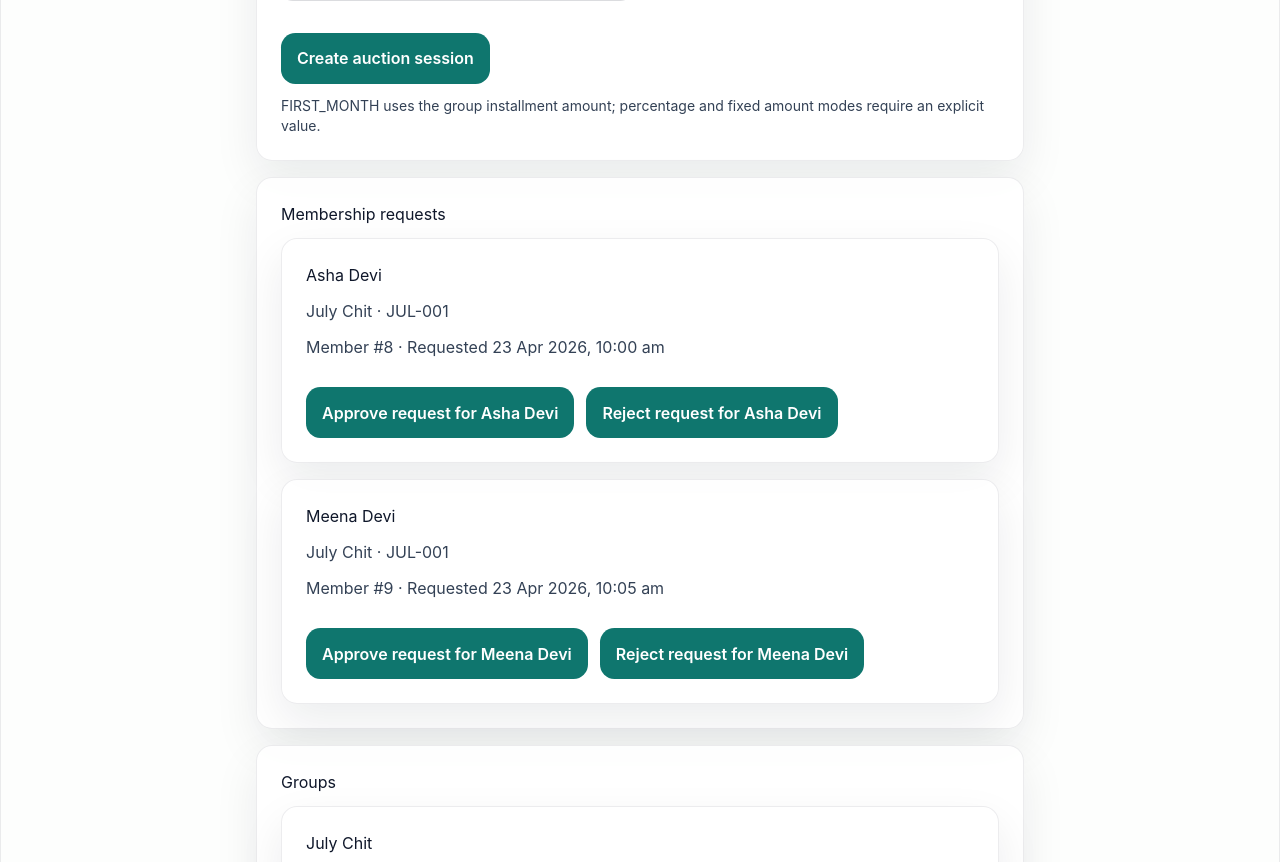
it: lets an owner approve and reject pending membership requests
(page scrolled)
Expected: the heading "Membership requests" is shown, [281, 204, 446, 224]
Expected: the heading "Asha Devi" is shown, [306, 265, 382, 285]
Click the button "Approve request for Asha Devi".
click(440, 413)  # box [306, 387, 574, 438]
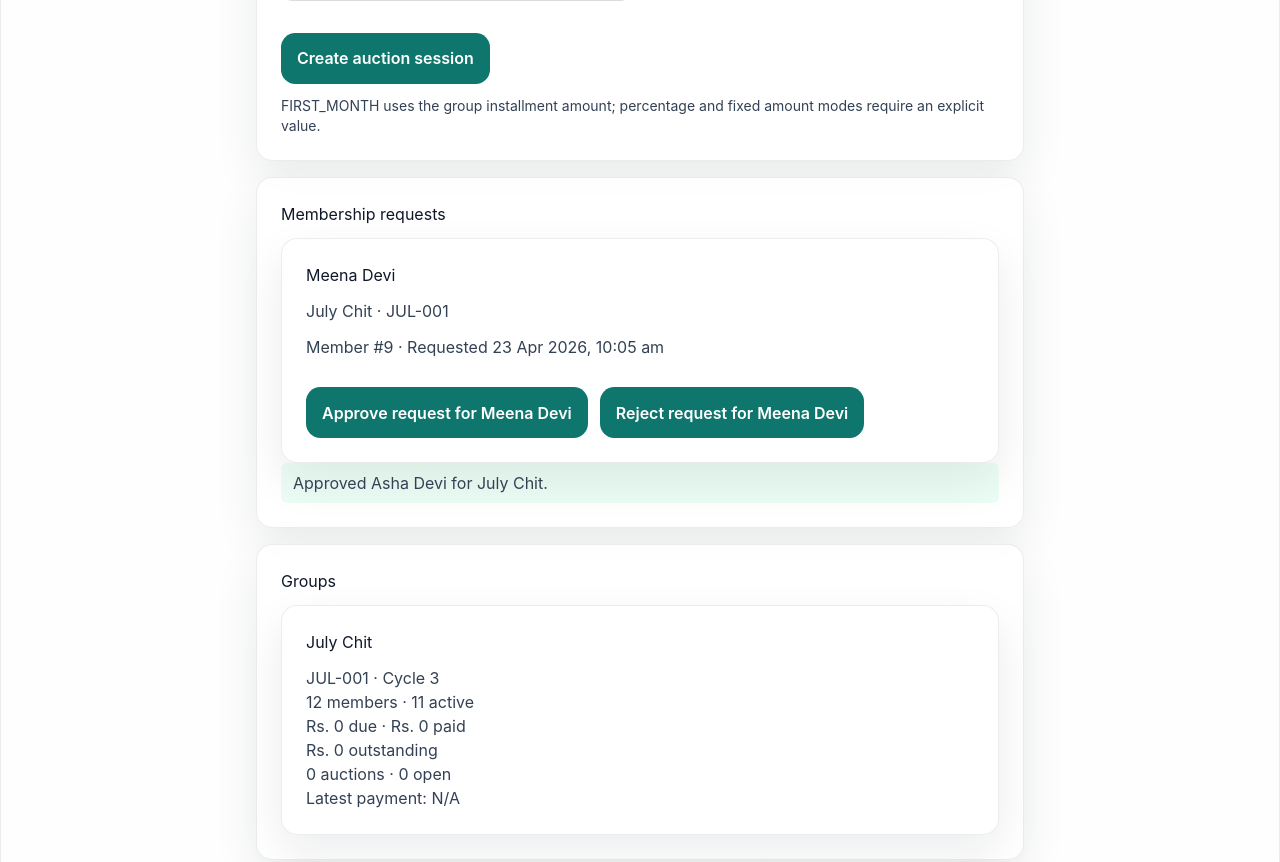
Expected: the text "Approved Asha Devi for July Chit." is shown, [281, 463, 999, 503]
Click the button "Reject request for Meena Devi".
click(732, 413)  # box [600, 387, 864, 438]
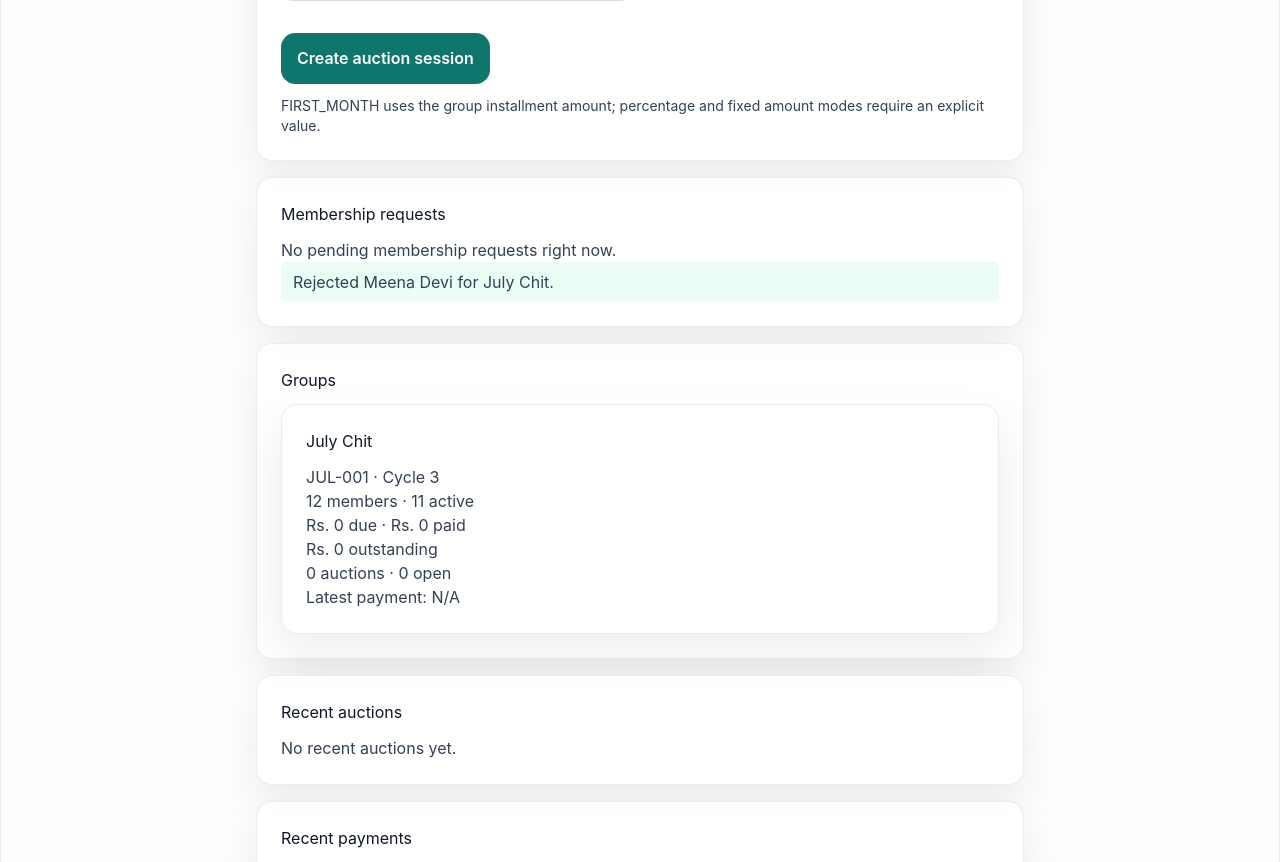
Expected: the text "Rejected Meena Devi for July Chit." is shown, [281, 262, 999, 302]
